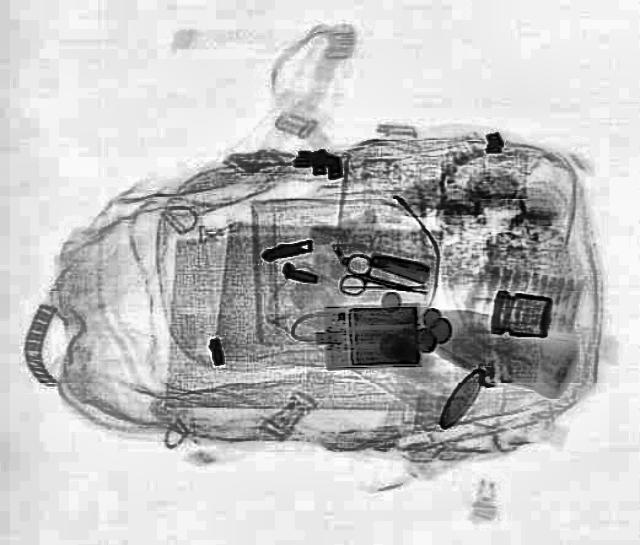Scissors: (332, 252, 430, 310)
